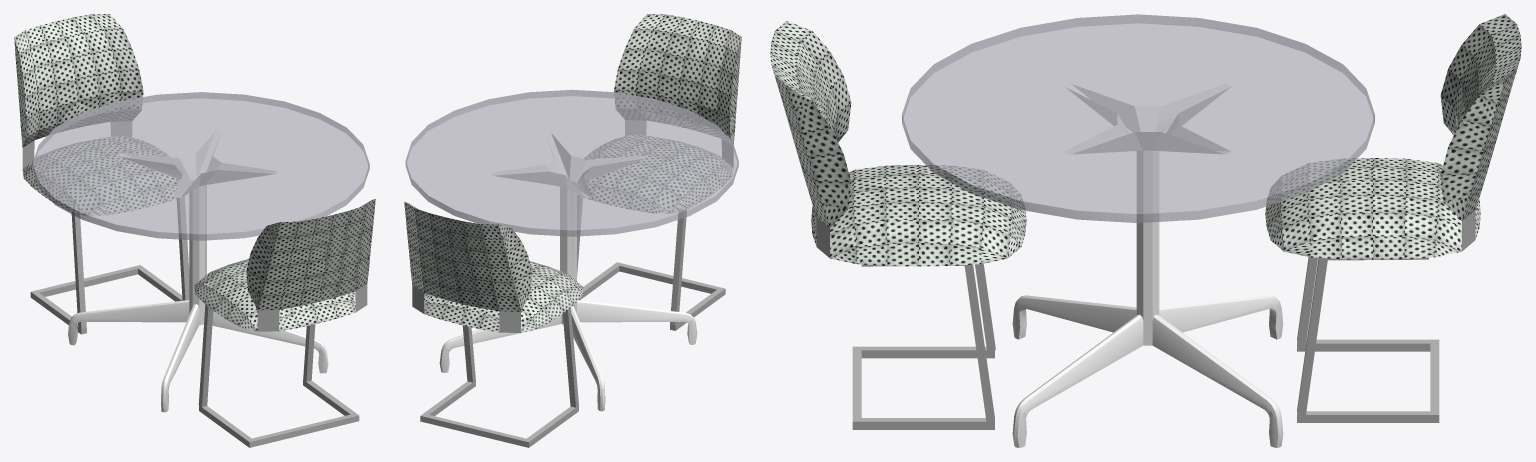
The model's file is table_and_chairs.glb.
3 views of the same model, side by side, from view 1: azimuth 30°, elevation 25°; view 2: azimuth 150°, elevation 25°; view 3: azimuth 270°, elevation 25° (orthographic). The views are drawn at different scales.
Parts seen in each view (by area): view 1: 3DSMeshMatrix (×4); view 2: 3DSMeshMatrix (×4); view 3: 3DSMeshMatrix (×4).
Part boxes in pixels (x1,y1,x2,y2): 3DSMeshMatrix (×4): [14, 14, 375, 447]; 3DSMeshMatrix (×4): [404, 14, 741, 447]; 3DSMeshMatrix (×4): [770, 14, 1521, 447].
Size of the model in its own units: 29.47 by 23.28 by 46.8.
Materials: 4 (1 with a texture image).
